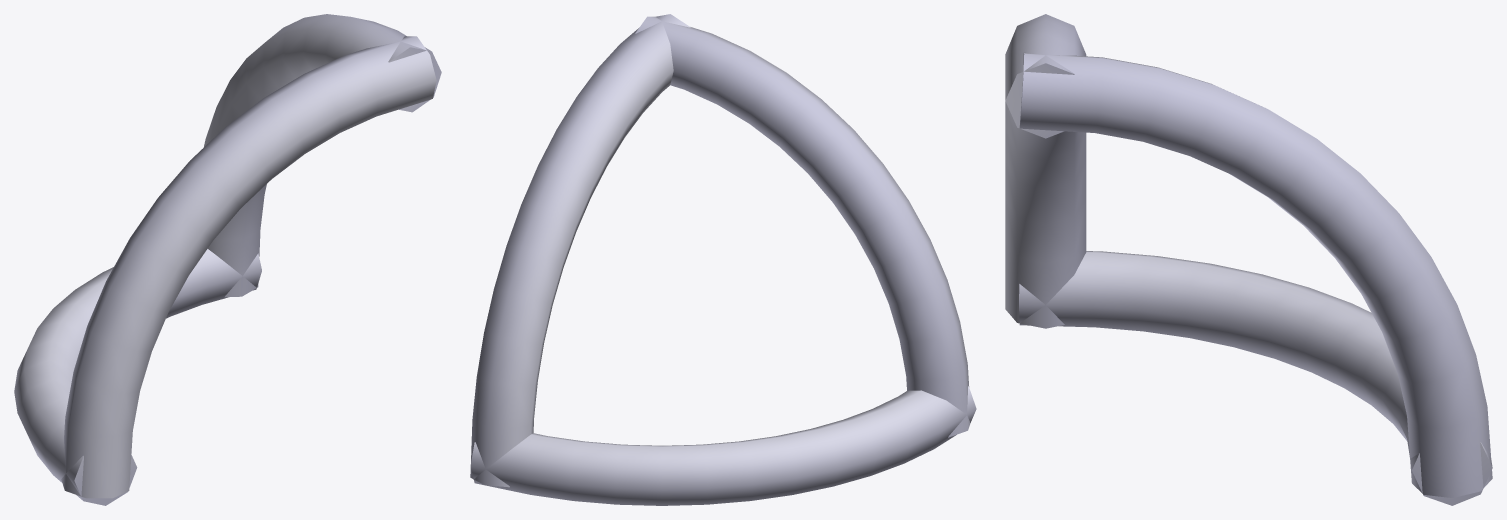
File: gizmo-collider.glb
3 views of the same model, side by side, from view 1: azimuth 30°, elevation 25°; view 2: azimuth 150°, elevation 25°; view 3: azimuth 270°, elevation 25° (orthographic). The views are drawn at different scales.
Visible parts, largest first — view 1: rotation-z, rotation-y, rotation-x; view 2: rotation-z, rotation-x, rotation-y; view 3: rotation-x, rotation-y, rotation-z.
Part boxes in pixels (box(x1,y1,x2,y2)): rotation-z: box(61, 36, 436, 498); rotation-y: box(14, 249, 261, 505); rotation-x: box(203, 14, 441, 297); rotation-z: box(635, 16, 970, 437); rotation-x: box(470, 14, 690, 487); rotation-y: box(470, 386, 976, 505); rotation-x: box(1019, 52, 1492, 497); rotation-y: box(1019, 251, 1492, 505); rotation-z: box(1005, 14, 1086, 328).
Size of the model in its own units: 6.02 by 6.02 by 6.02.
1 material, 1 textured.
